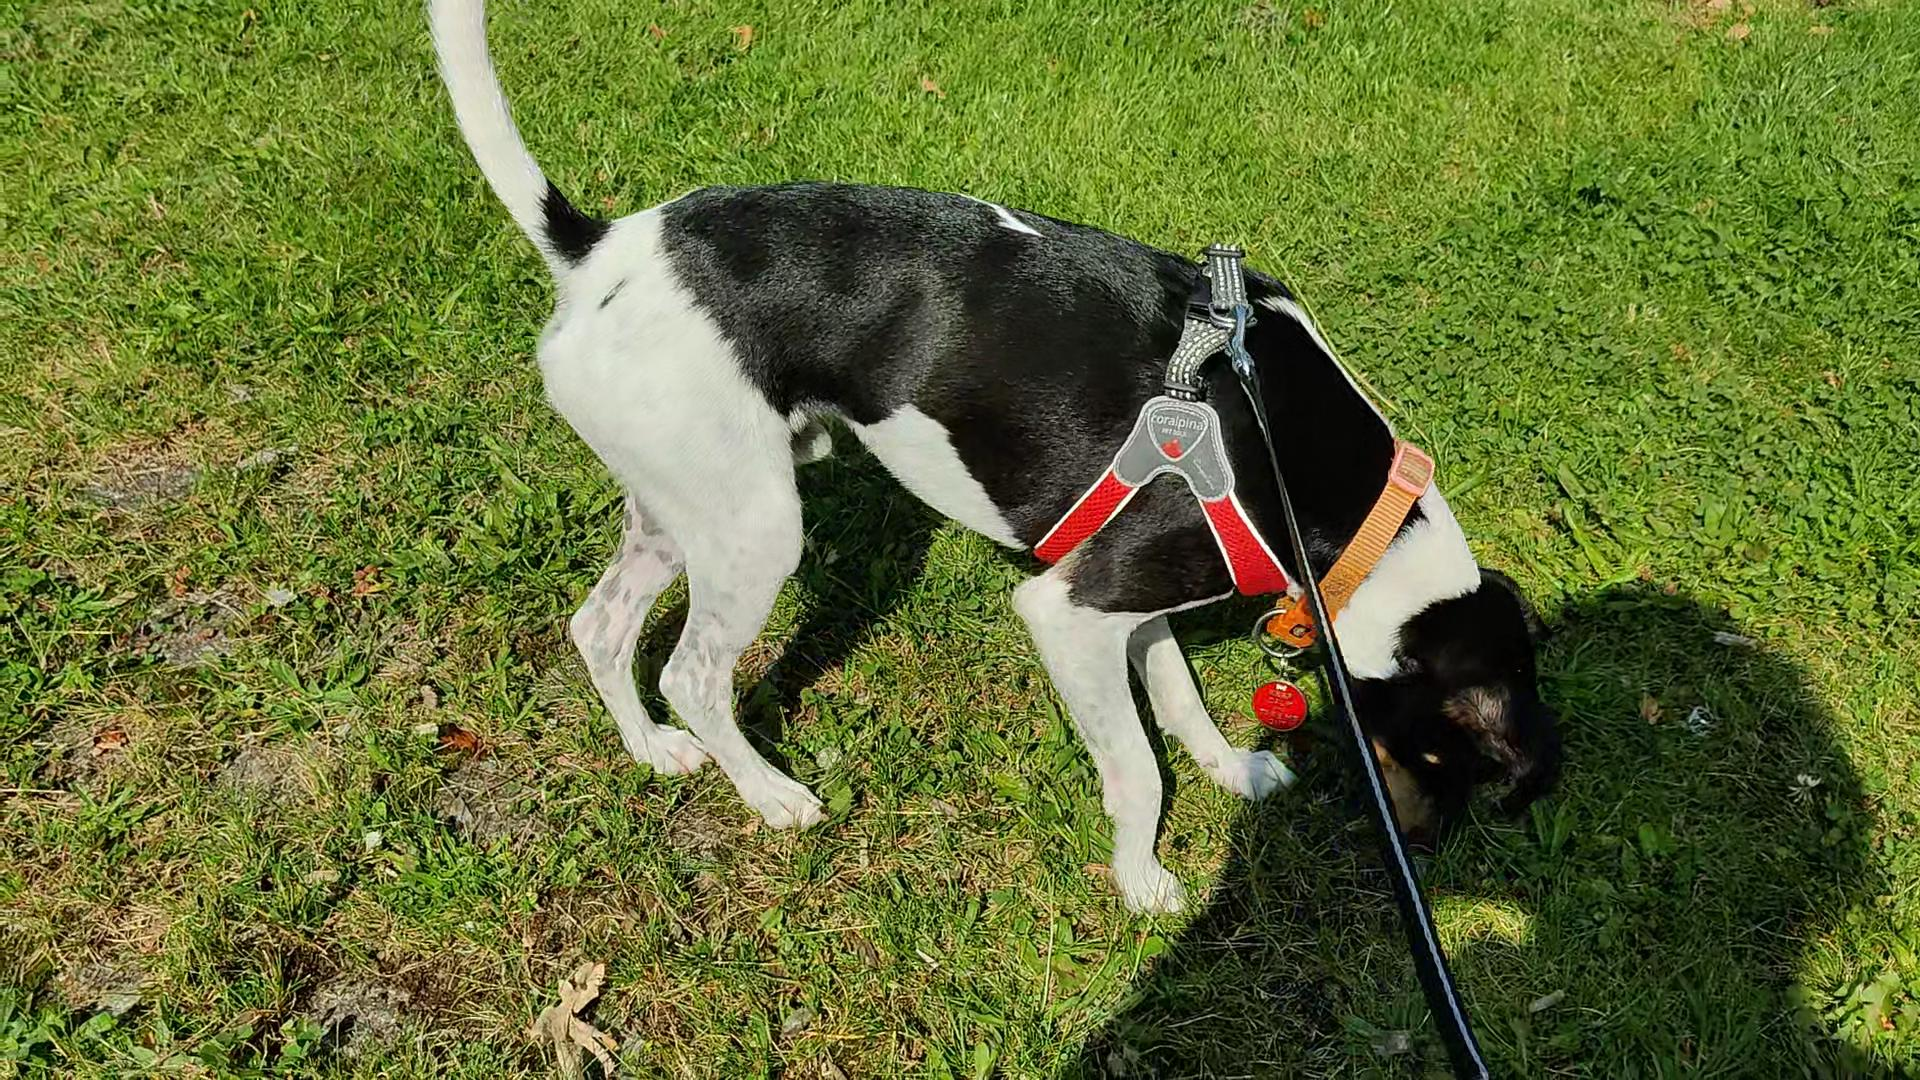Dog: (413, 0, 1571, 924)
